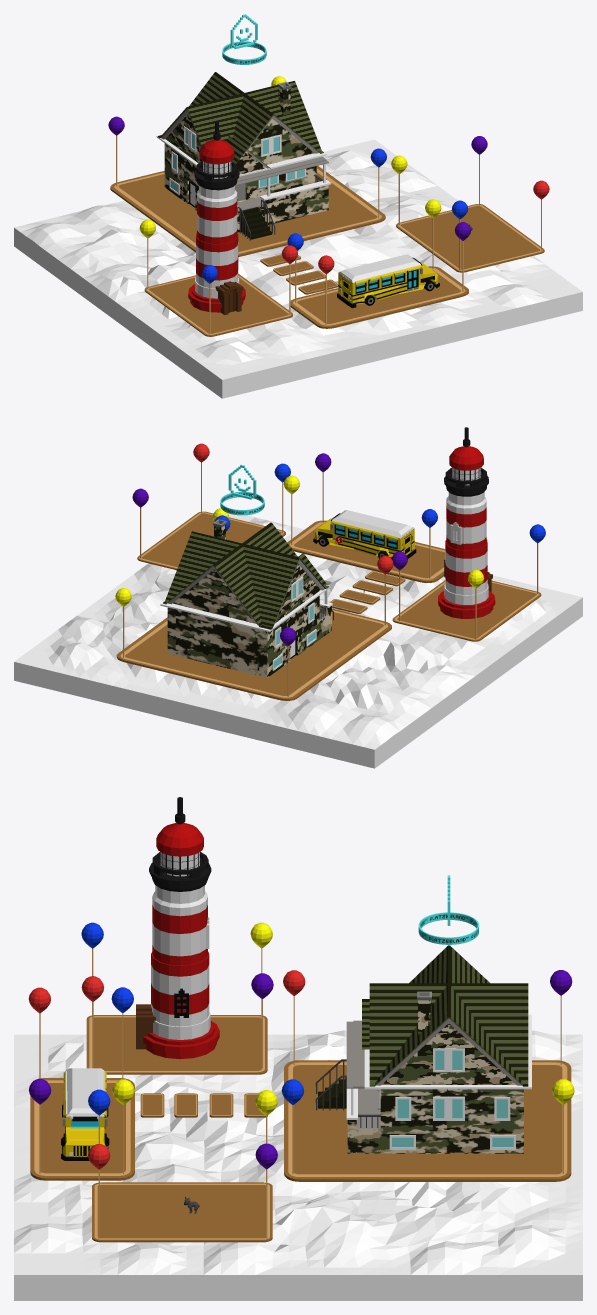
3 renders of one model, top to bottom at view 1: azimuth 30°, elevation 25°; view 2: azimuth 150°, elevation 25°; view 3: azimuth 270°, elevation 25°, orthographic. The views are drawn at different scales.
Visible parts, largest first — view 1: Cube.013, Cube.001, OBJRANDOM_LIGHTHOUSE, VEHICLES_SCHOOL_BUS, TYPE_PREMIUM; view 2: Cube.013, Cube.001, OBJRANDOM_LIGHTHOUSE, VEHICLES_SCHOOL_BUS, TYPE_PREMIUM; view 3: Cube.013, Cube.001, OBJRANDOM_LIGHTHOUSE, VEHICLES_SCHOOL_BUS, TYPE_PREMIUM.
Part boxes in pixels (bbox=[...]): Cube.013: bbox=[14, 76, 582, 398]; Cube.001: bbox=[156, 72, 331, 240]; OBJRANDOM_LIGHTHOUSE: bbox=[188, 121, 245, 315]; VEHICLES_SCHOOL_BUS: bbox=[337, 254, 439, 308]; TYPE_PREMIUM: bbox=[222, 14, 266, 64]; Cube.013: bbox=[14, 443, 582, 768]; Cube.001: bbox=[160, 519, 333, 677]; OBJRANDOM_LIGHTHOUSE: bbox=[438, 427, 495, 618]; VEHICLES_SCHOOL_BUS: bbox=[313, 510, 416, 558]; TYPE_PREMIUM: bbox=[220, 464, 264, 515]; Cube.013: bbox=[14, 922, 582, 1300]; Cube.001: bbox=[315, 945, 531, 1153]; OBJRANDOM_LIGHTHOUSE: bbox=[136, 797, 219, 1059]; VEHICLES_SCHOOL_BUS: bbox=[61, 1068, 109, 1160]; TYPE_PREMIUM: bbox=[418, 875, 478, 944].
Size of the model in its own units: 4000 by 2443 by 4000.
Materials: 43 (4 with a texture image).
